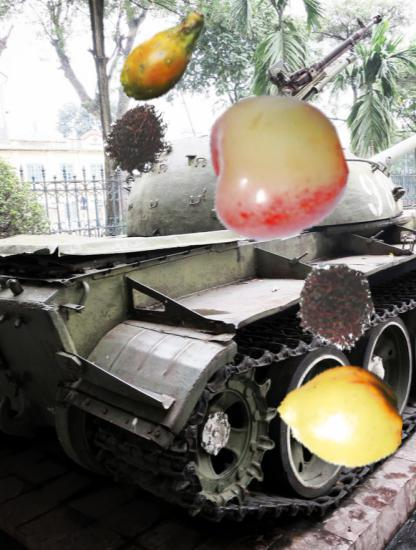Cactus: (112, 1, 224, 113)
Cherry: (201, 91, 350, 240)
Quince: (277, 352, 404, 479)
Rambutan: (286, 260, 383, 357), (101, 103, 178, 180)
